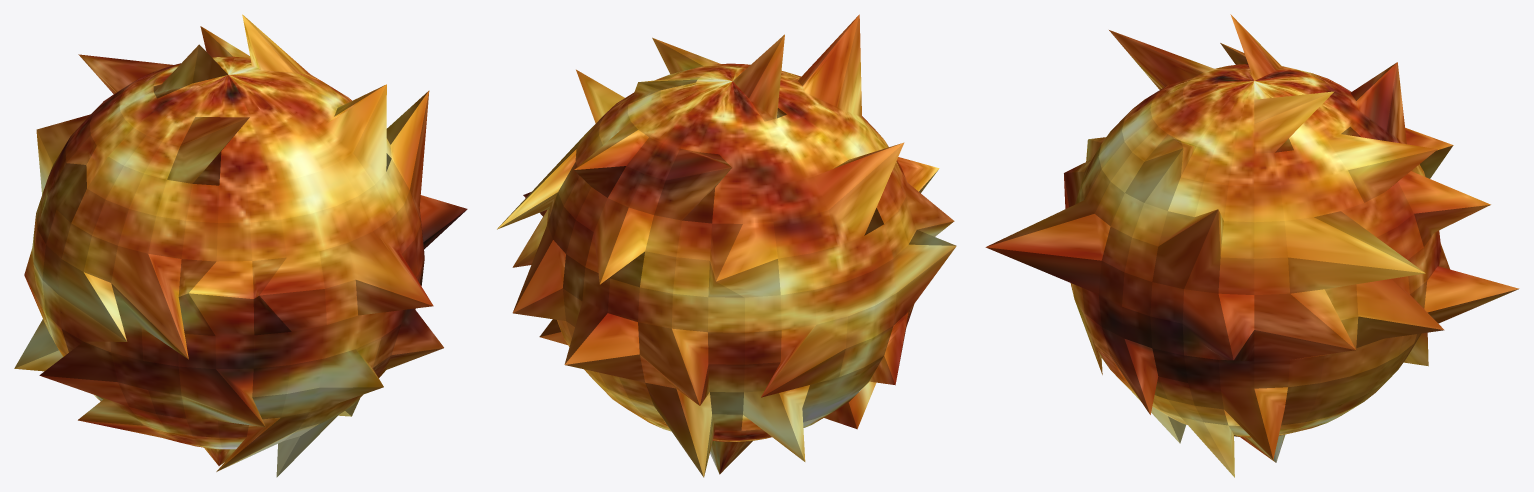
File: explosion.glb
3 renders of one model, left to right at view 1: azimuth 30°, elevation 25°; view 2: azimuth 150°, elevation 25°; view 3: azimuth 270°, elevation 25°, orthographic. The views are drawn at different scales.
Visible parts, largest first — view 1: Sphere; view 2: Sphere; view 3: Sphere.
Part boxes in pixels (x1,y1,x2,y2): Sphere: (14, 14, 467, 477); Sphere: (497, 14, 956, 477); Sphere: (985, 14, 1519, 477).
Bounding box in the file's own units: 2.39 × 2.53 × 2.86.
Materials: 1 (1 with a texture image).
